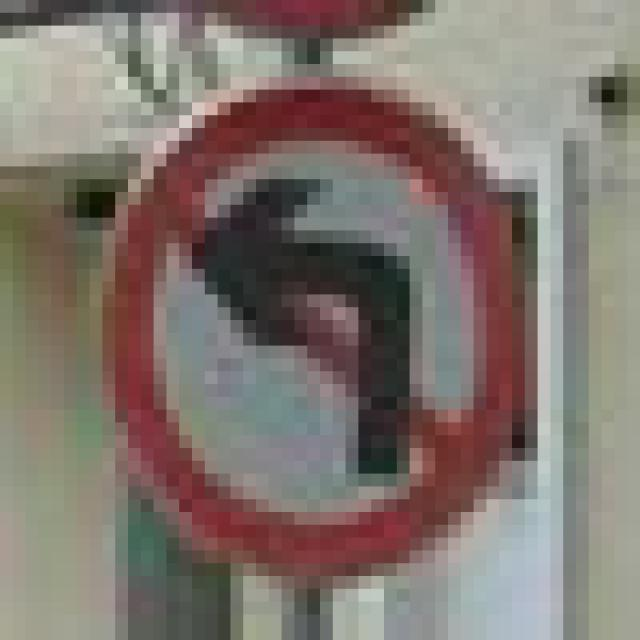LEFT_TURN_PROHIBITED: (90, 64, 512, 576)
